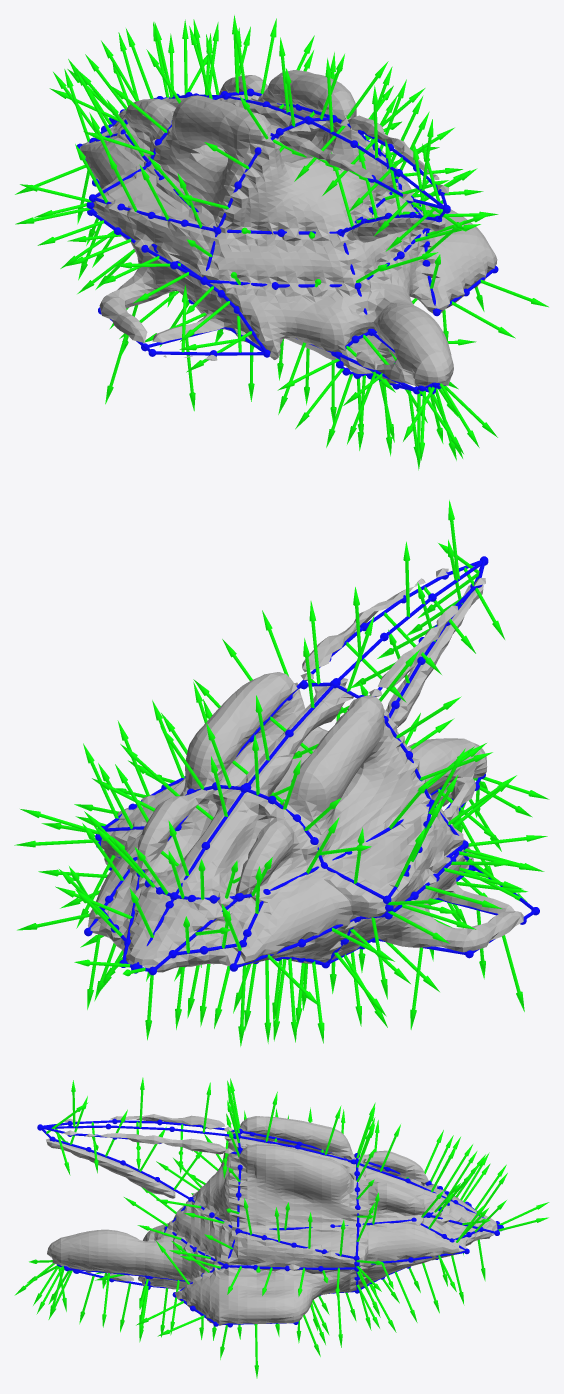
Rendered from ils_spacecraft_78.gltf.
The picture shows the model from 3 angles, top to bottom: view 1: azimuth 30°, elevation 25°; view 2: azimuth 150°, elevation 25°; view 3: azimuth 270°, elevation 25°; orthographic projection. The views are drawn at different scales.
Size of the model in its own units: 0.5834 by 0.5137 by 0.9412.
